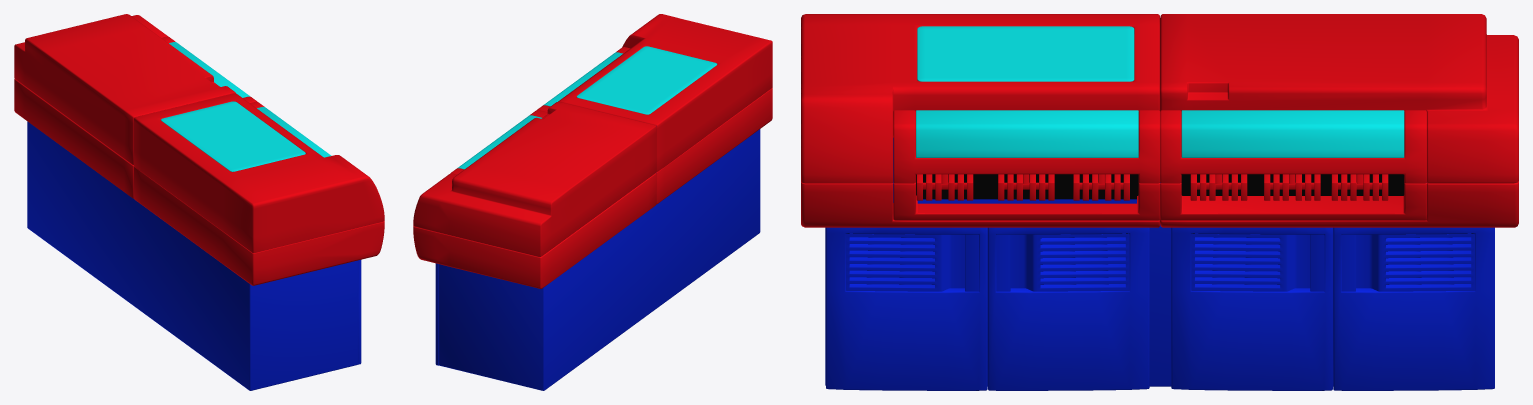
The model's file is BloodChemAnalyzer.001.fbx.
3 views of the same model, side by side, from view 1: azimuth 30°, elevation 25°; view 2: azimuth 150°, elevation 25°; view 3: azimuth 270°, elevation 25° (orthographic). The views are drawn at different scales.
Parts seen in each view (by area): view 1: GEO_BloodChemAnalyzer_CabinetBottom, GEO_BloodChemAnalyzer_BodyRight, GEO_BloodChemAnalyzer_BodyLeft, GEO_BloodChemAnalyzer_GlassTop, GEO_BloodChemAnalyzer_FaceRight_Glass.001, GEO_BloodChemAnalyzer_FaceRight_Glass.000, GEO_BloodChemAnalyzer_Door.004; view 2: GEO_BloodChemAnalyzer_CabinetBottom, GEO_BloodChemAnalyzer_BodyLeft, GEO_BloodChemAnalyzer_BodyRight, GEO_BloodChemAnalyzer_GlassTop, GEO_BloodChemAnalyzer_FaceRight_Glass.000, GEO_BloodChemAnalyzer_FaceRight_Glass.001, GEO_BloodChemAnalyzer_Door.002; view 3: GEO_BloodChemAnalyzer_BodyLeft, GEO_BloodChemAnalyzer_BodyRight, GEO_BloodChemAnalyzer_Door.001, GEO_BloodChemAnalyzer_Door.003, GEO_BloodChemAnalyzer_Door.002, GEO_BloodChemAnalyzer_Door.004, GEO_BloodChemAnalyzer_FaceRight.001, GEO_BloodChemAnalyzer_GlassTop, GEO_BloodChemAnalyzer_FaceRight_Glass.001, GEO_BloodChemAnalyzer_FaceRight_Glass.000, GEO_BloodChemAnalyzer_FaceRight.000, GEO_BloodChemAnalyzer_Door_Vent.003 (+15 smaller).
Boxes of the visible parts, box(x1,y1,x2,y2) form: GEO_BloodChemAnalyzer_CabinetBottom: box(27, 121, 358, 390); GEO_BloodChemAnalyzer_BodyRight: box(134, 93, 384, 285); GEO_BloodChemAnalyzer_BodyLeft: box(14, 14, 235, 198); GEO_BloodChemAnalyzer_GlassTop: box(161, 101, 305, 171); GEO_BloodChemAnalyzer_FaceRight_Glass.001: box(169, 42, 249, 97); GEO_BloodChemAnalyzer_FaceRight_Glass.000: box(257, 107, 331, 157); GEO_BloodChemAnalyzer_Door.004: box(358, 260, 361, 364); GEO_BloodChemAnalyzer_CabinetBottom: box(439, 129, 760, 390); GEO_BloodChemAnalyzer_BodyLeft: box(413, 102, 656, 288); GEO_BloodChemAnalyzer_BodyRight: box(558, 14, 772, 204); GEO_BloodChemAnalyzer_GlassTop: box(576, 46, 717, 114); GEO_BloodChemAnalyzer_FaceRight_Glass.000: box(543, 52, 622, 106); GEO_BloodChemAnalyzer_FaceRight_Glass.001: box(457, 115, 541, 169); GEO_BloodChemAnalyzer_Door.002: box(435, 263, 438, 365); GEO_BloodChemAnalyzer_BodyLeft: box(1160, 14, 1518, 227); GEO_BloodChemAnalyzer_BodyRight: box(801, 14, 1159, 227); GEO_BloodChemAnalyzer_Door.001: box(1171, 227, 1332, 390); GEO_BloodChemAnalyzer_Door.003: box(988, 227, 1149, 390); GEO_BloodChemAnalyzer_Door.002: box(1333, 227, 1494, 390); GEO_BloodChemAnalyzer_Door.004: box(826, 227, 987, 390); GEO_BloodChemAnalyzer_FaceRight.001: box(1160, 110, 1426, 220); GEO_BloodChemAnalyzer_GlassTop: box(917, 26, 1134, 81); GEO_BloodChemAnalyzer_FaceRight_Glass.001: box(1181, 110, 1404, 157); GEO_BloodChemAnalyzer_FaceRight_Glass.000: box(916, 110, 1138, 157); GEO_BloodChemAnalyzer_FaceRight.000: box(893, 110, 1160, 220); GEO_BloodChemAnalyzer_Door_Vent.003: box(1037, 233, 1129, 291).
Size of the model in its own units: 1236 by 1727 by 3861.
